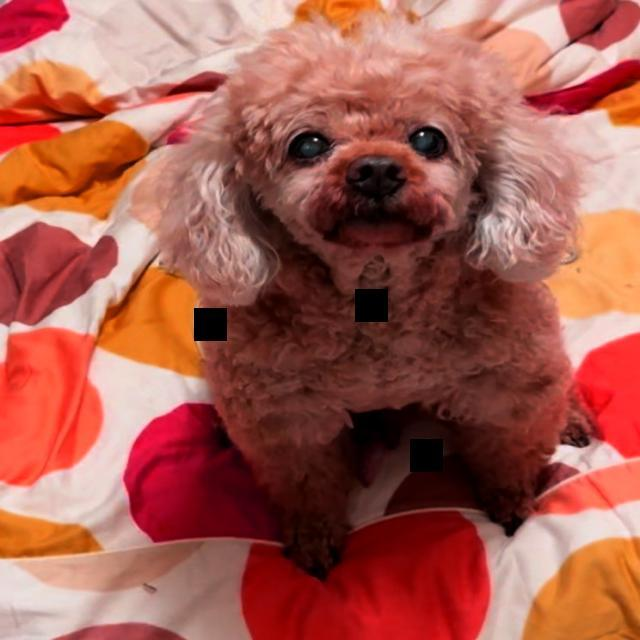adult_dog: (155, 20, 593, 581)
